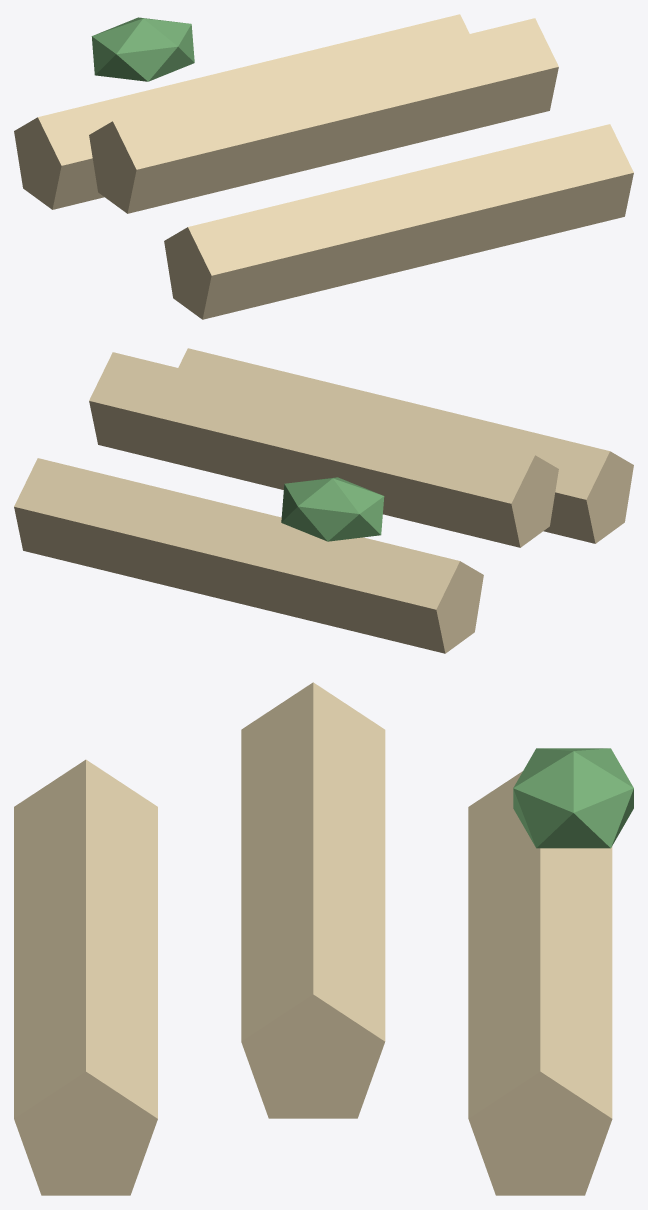
The model's file is old_wood_birch_grove.lod1.glb.
3 renders of one model, top to bottom at view 1: azimuth 30°, elevation 25°; view 2: azimuth 150°, elevation 25°; view 3: azimuth 270°, elevation 25°, orthographic. The views are drawn at different scales.
Size of the model in its own units: 1.56 by 0.5094 by 1.31.
